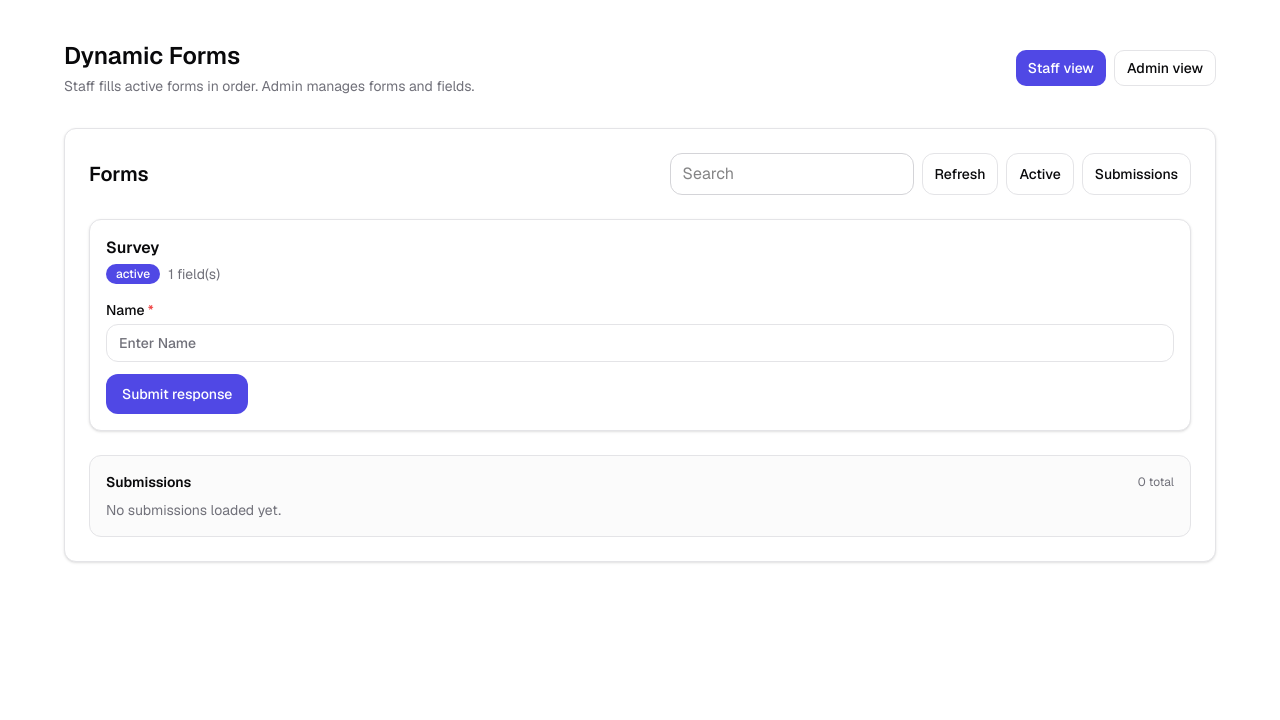
Test: FormsPageClient › keeps a form visible in Admin after toggling active -> draft, and hides it in Staff
// Switch to admin and ensure list is loaded once.
Click the button "Admin view": (1165, 68) 1114,50 -> 1216,86
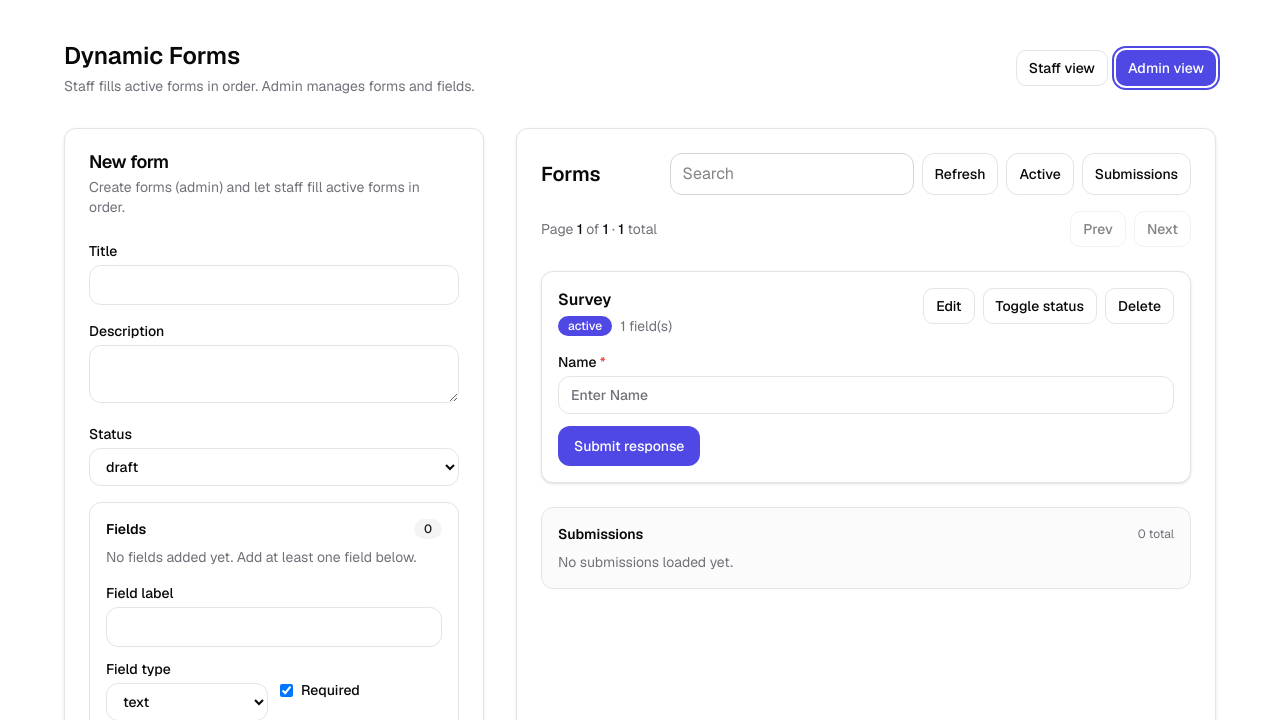
Click the button "Toggle status": (1040, 306) 983,288 -> 1097,324
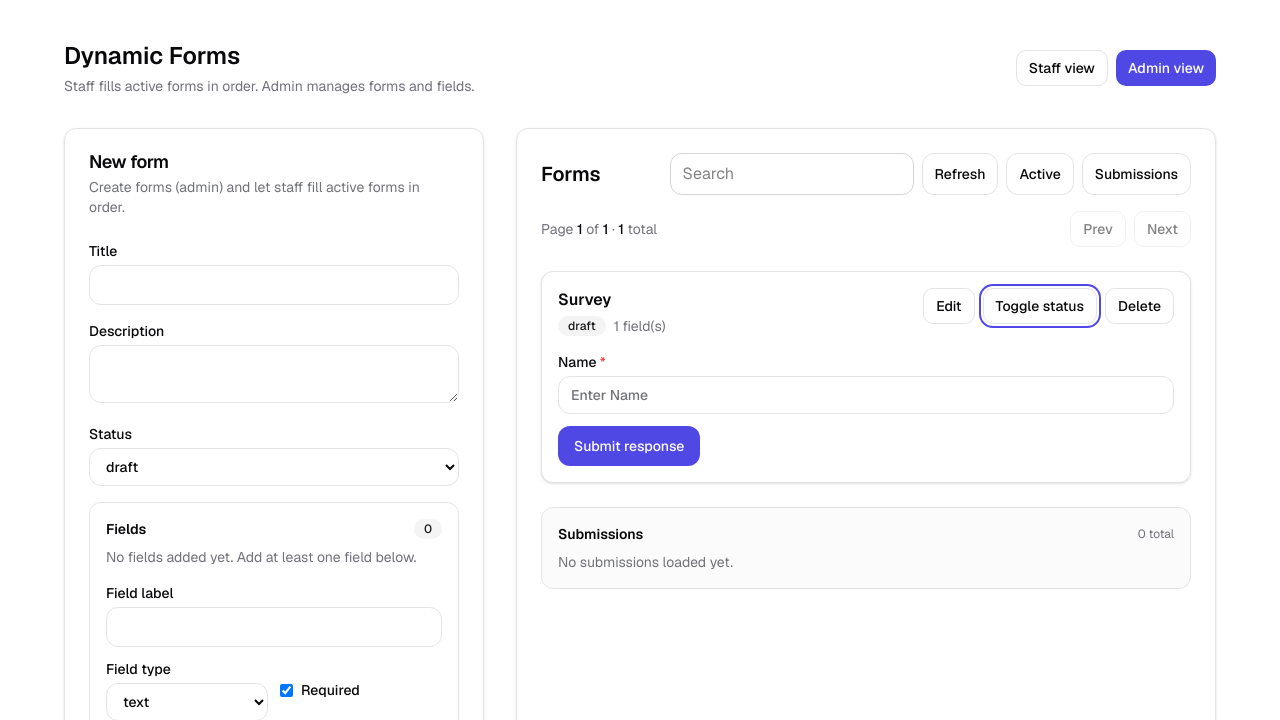
Expected: the element "Survey" is shown, 541,271 -> 1191,483
Now the text "draft" is shown, box 558,316 -> 606,336
Click the button "Staff view": (1062, 68) 1016,50 -> 1108,86
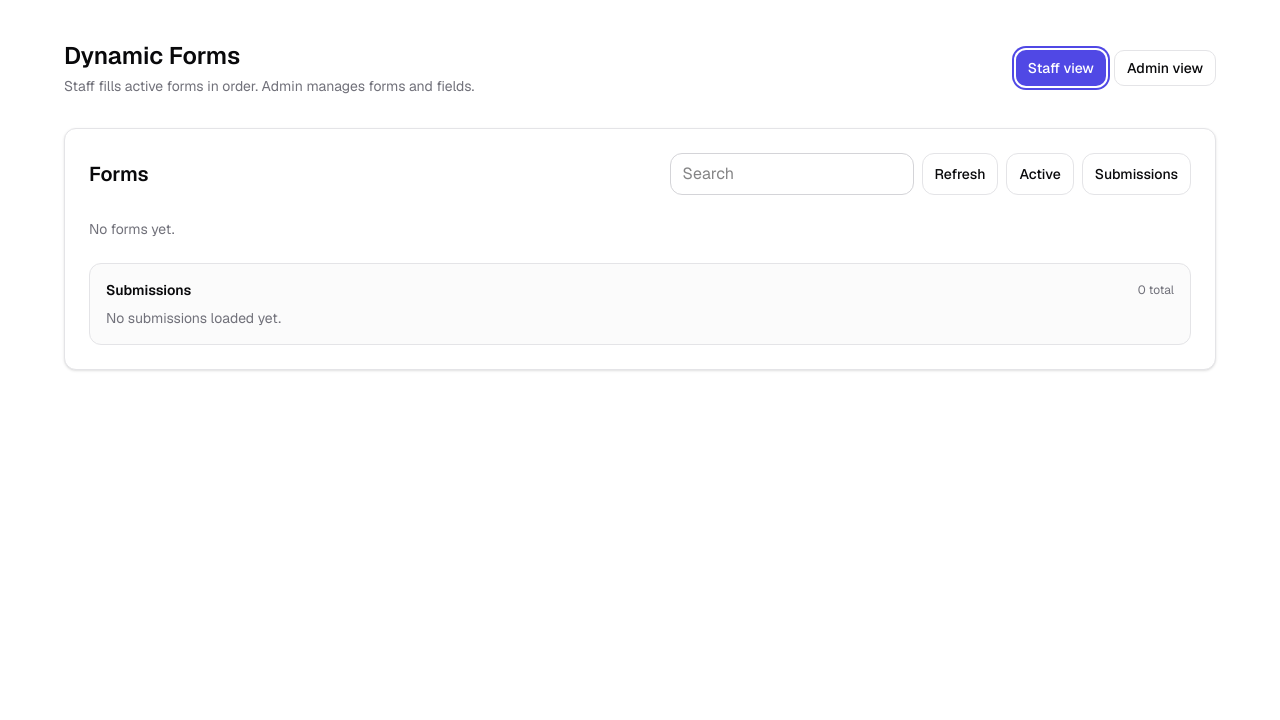
Now the heading "Survey" is gone
